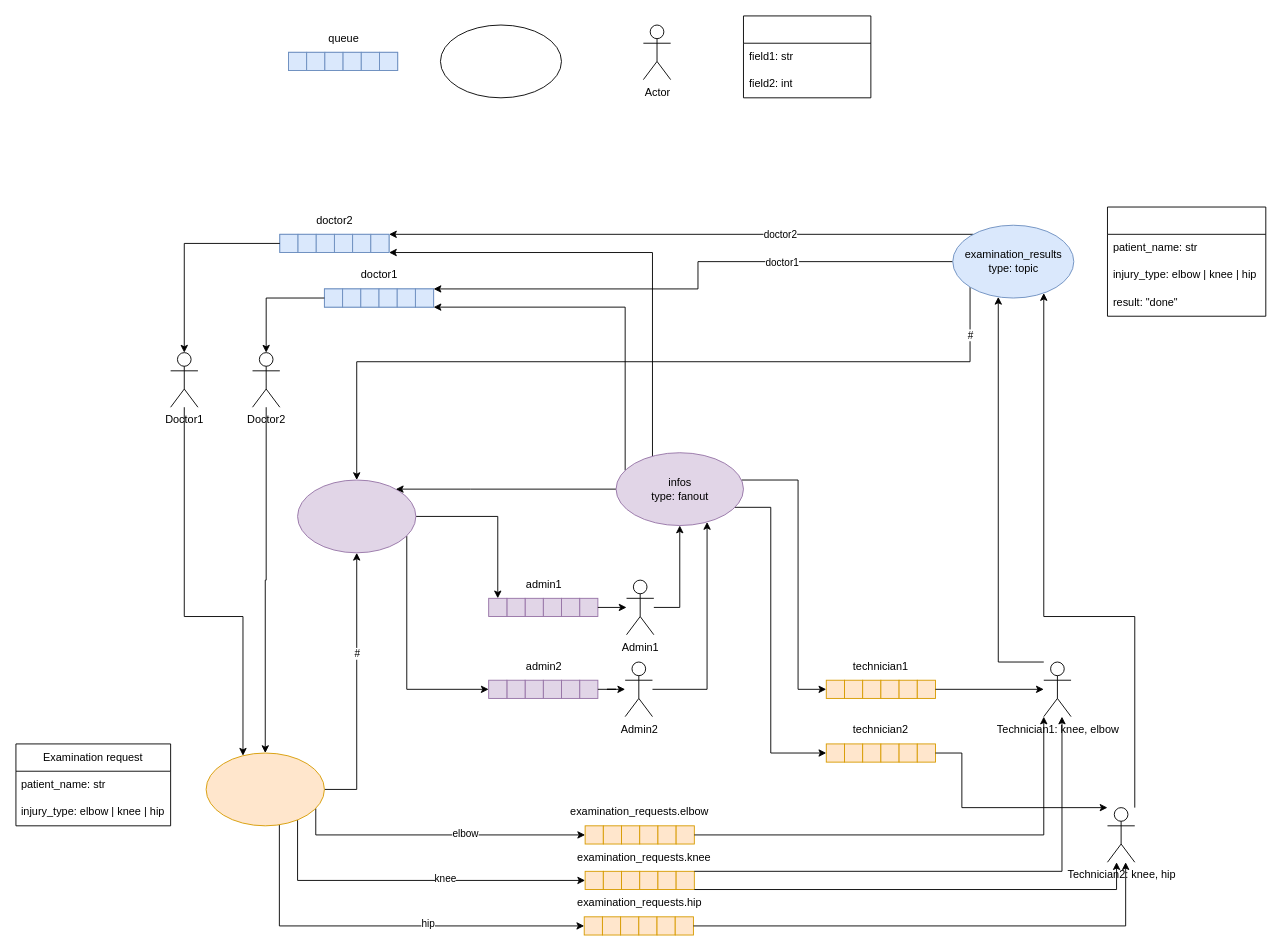
Some shapes in this 1282 by 951 pixel diagram are drawn without their labels. Here are the shapes that lost their labels. From the top down, the box of each, then its label:
(440, 24, 561, 98): exchange
(743, 15, 871, 98): Message structure
(1107, 206, 1266, 316): Examination result
(297, 479, 416, 553): logs type: fanout
(205, 752, 324, 826): examination_requests type: topic
